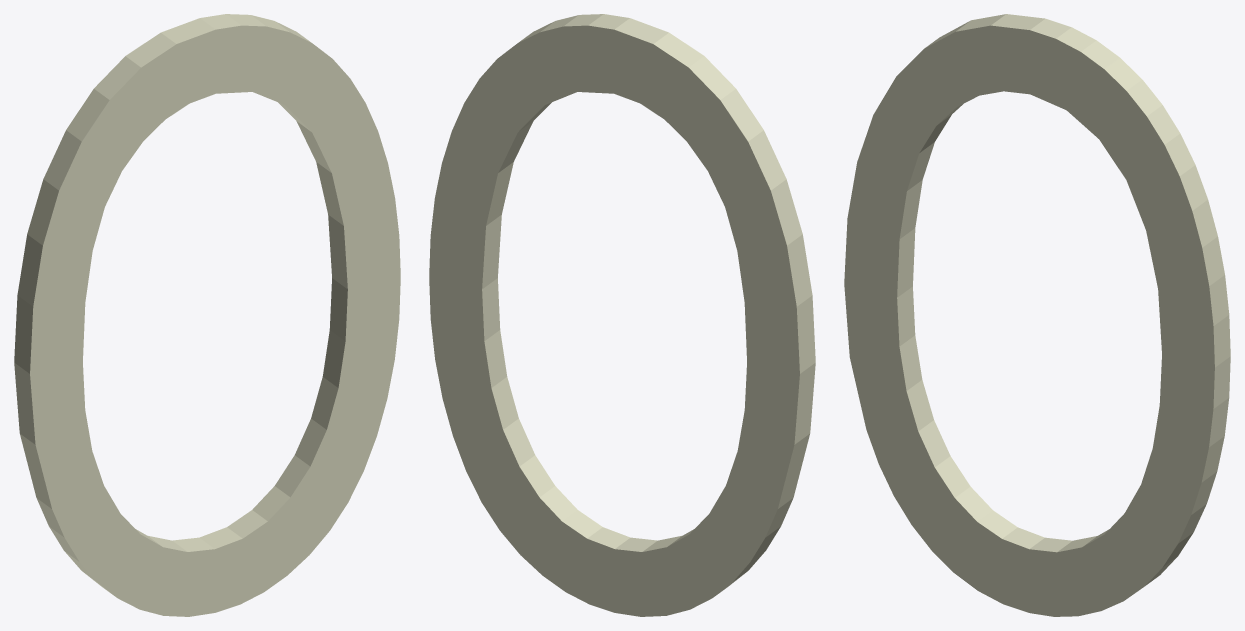
Rendered from original-90.obj.
3 renders of one model, left to right at view 1: azimuth 30°, elevation 25°; view 2: azimuth 150°, elevation 25°; view 3: azimuth 330°, elevation 25°, orthographic.
Parts seen in each view (by area): view 1: mesh123/mesh123-geometry#mesh123-geometry; view 2: mesh123/mesh123-geometry#mesh123-geometry; view 3: mesh123/mesh123-geometry#mesh123-geometry.
Part boxes in pixels (x1,y1,x2,y2): mesh123/mesh123-geometry#mesh123-geometry: (14, 14, 400, 616); mesh123/mesh123-geometry#mesh123-geometry: (429, 14, 815, 616); mesh123/mesh123-geometry#mesh123-geometry: (844, 14, 1230, 616).
Bounding box in the file's own units: 0.0152 × 0.0229 × 0.00113.
